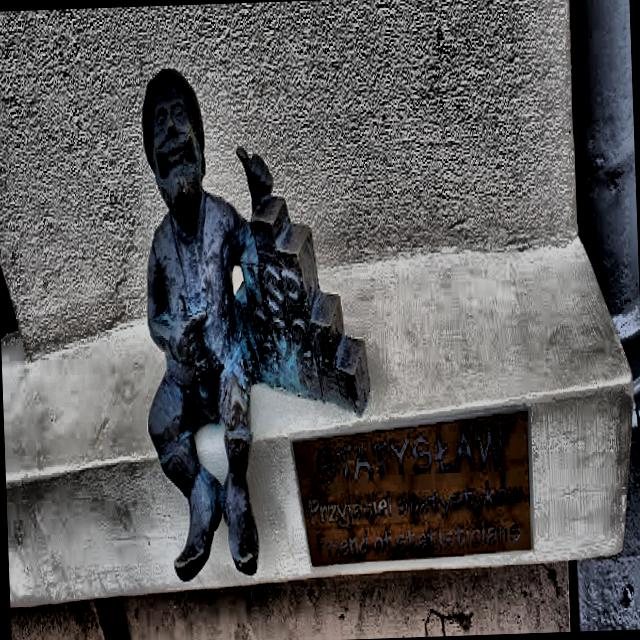Statyslaw: (143, 71, 370, 580)
